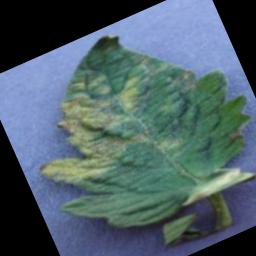Leaf_Mold: (10, 53, 169, 198)
